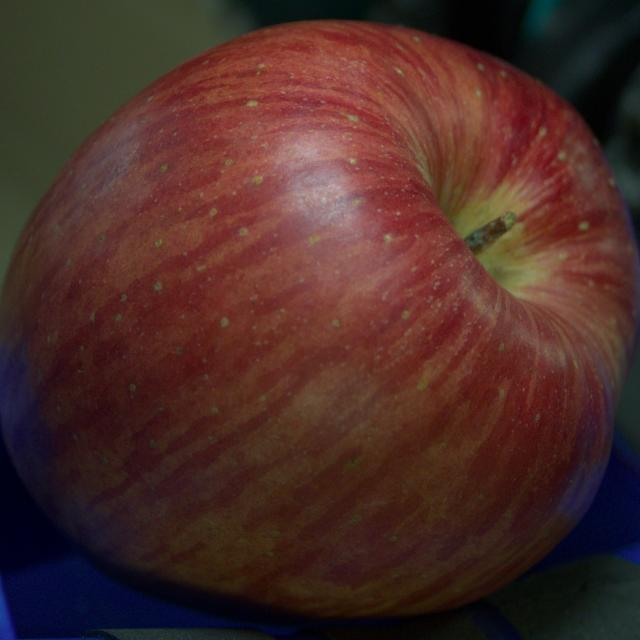apple: (0, 22, 639, 618)
